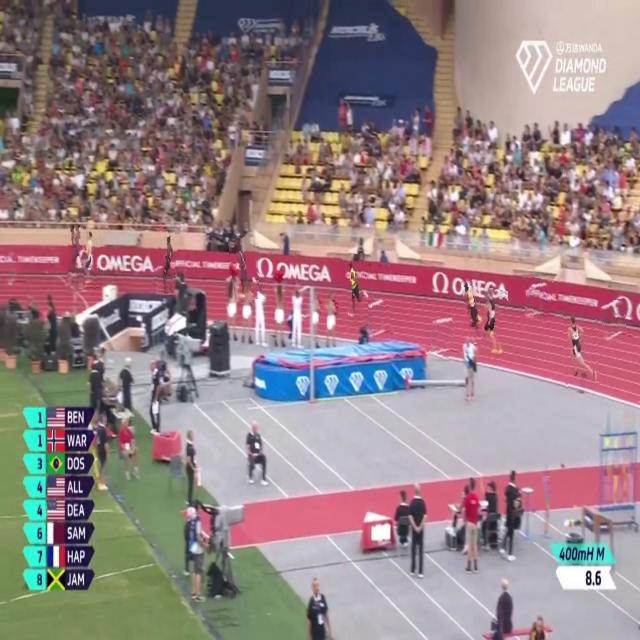athlete: (563, 310, 599, 391), (230, 238, 259, 302), (345, 254, 369, 327), (481, 289, 506, 354), (154, 228, 178, 294), (77, 231, 101, 290), (464, 279, 485, 344), (68, 225, 83, 288)
hurdle: (429, 313, 454, 365), (525, 278, 553, 324), (601, 300, 627, 342), (367, 296, 390, 335)
